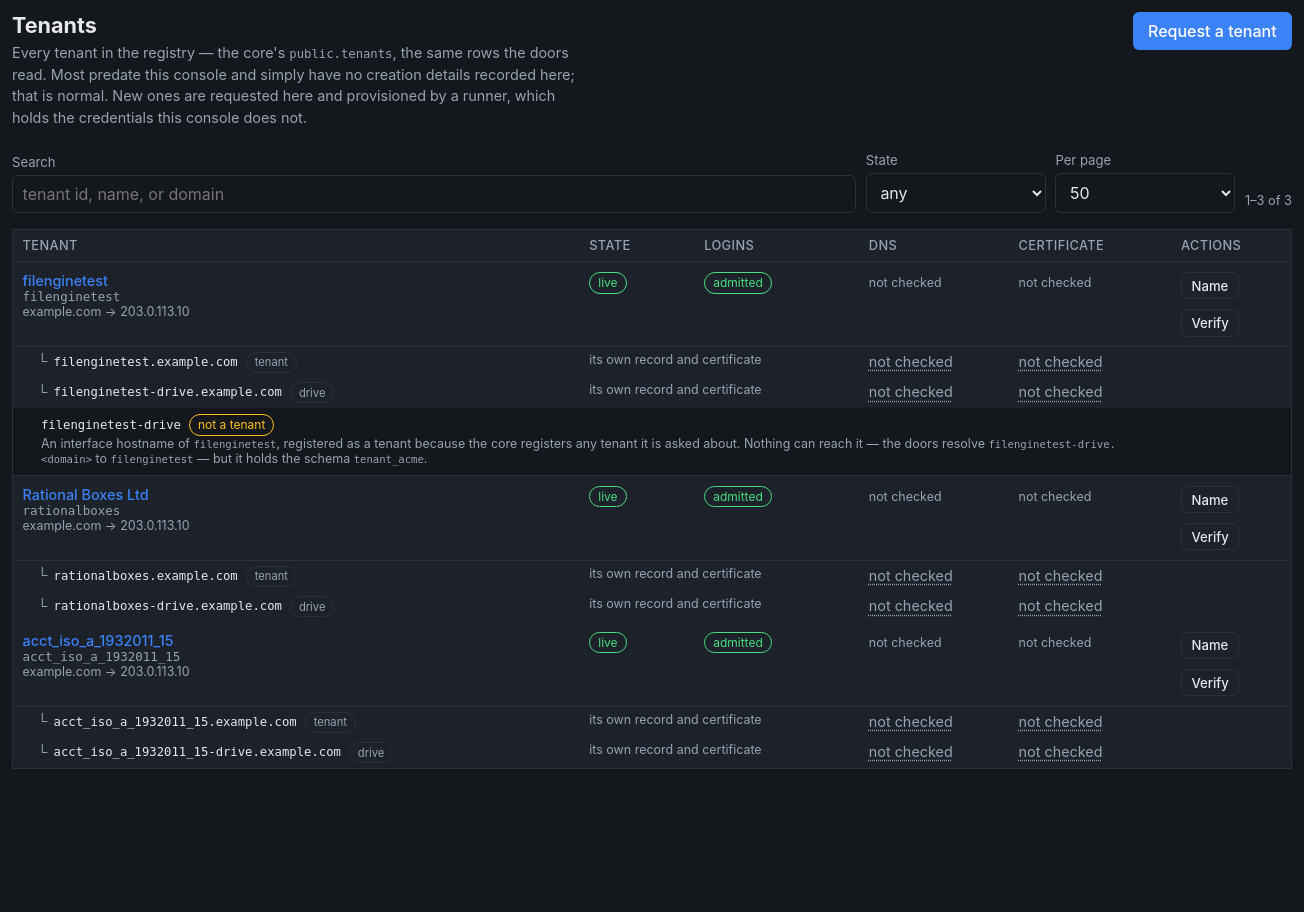
it: the search filter › matches on the tenant id
Type "rational" into the search field labelled "Search". click: (434, 194)
box: [12,175,856,213]
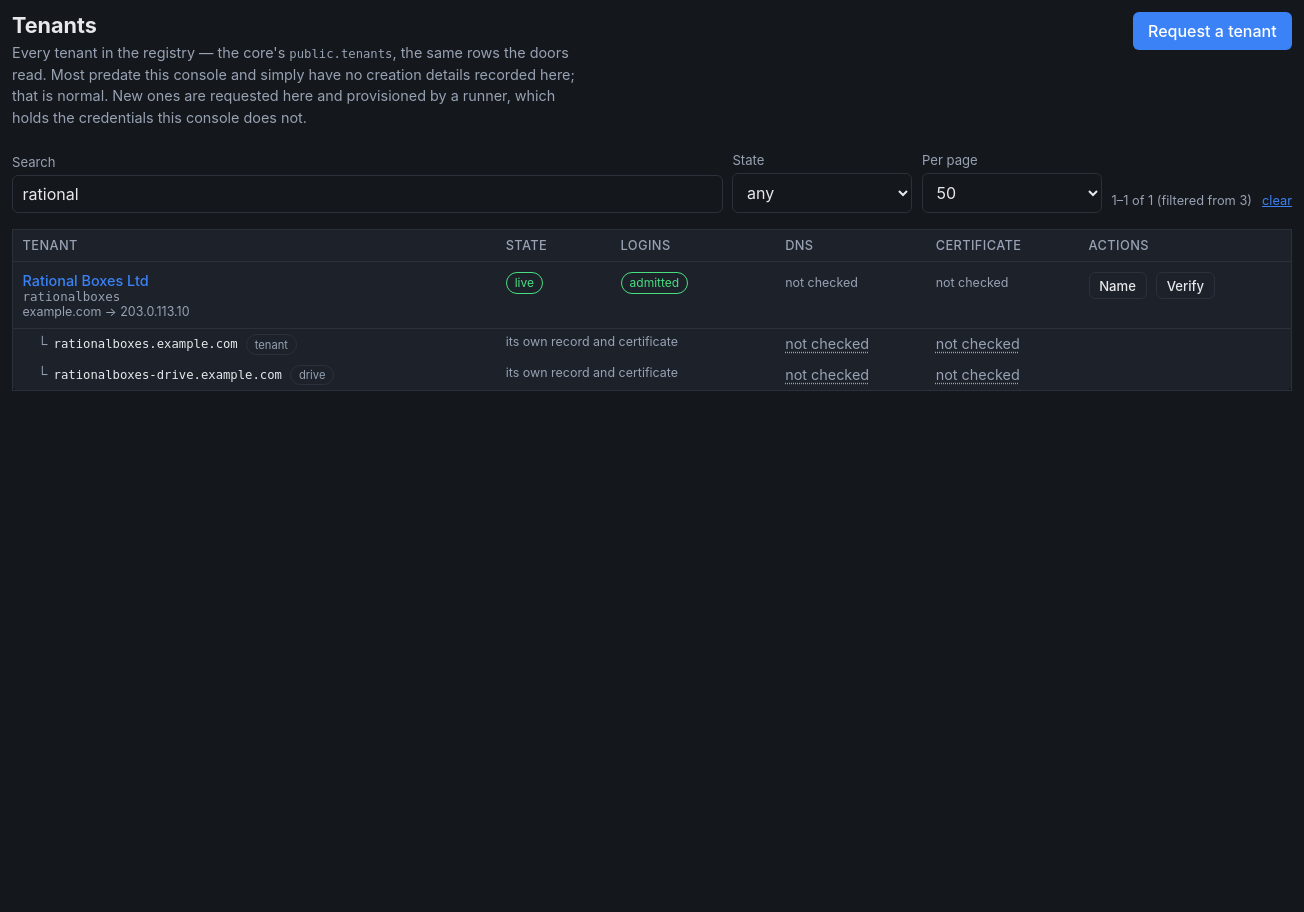
expect the text "Rational Boxes Ltd" is shown: met, box [23,272,149,289]
expect the text "acct_iso_a" is gone: met
